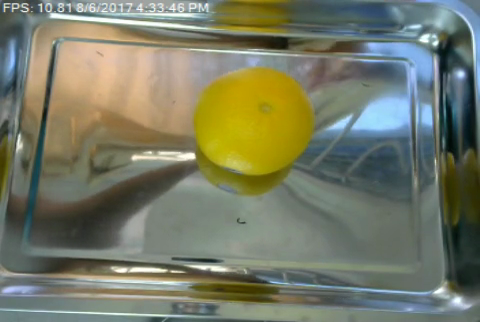Orange: (193, 68, 316, 177)
